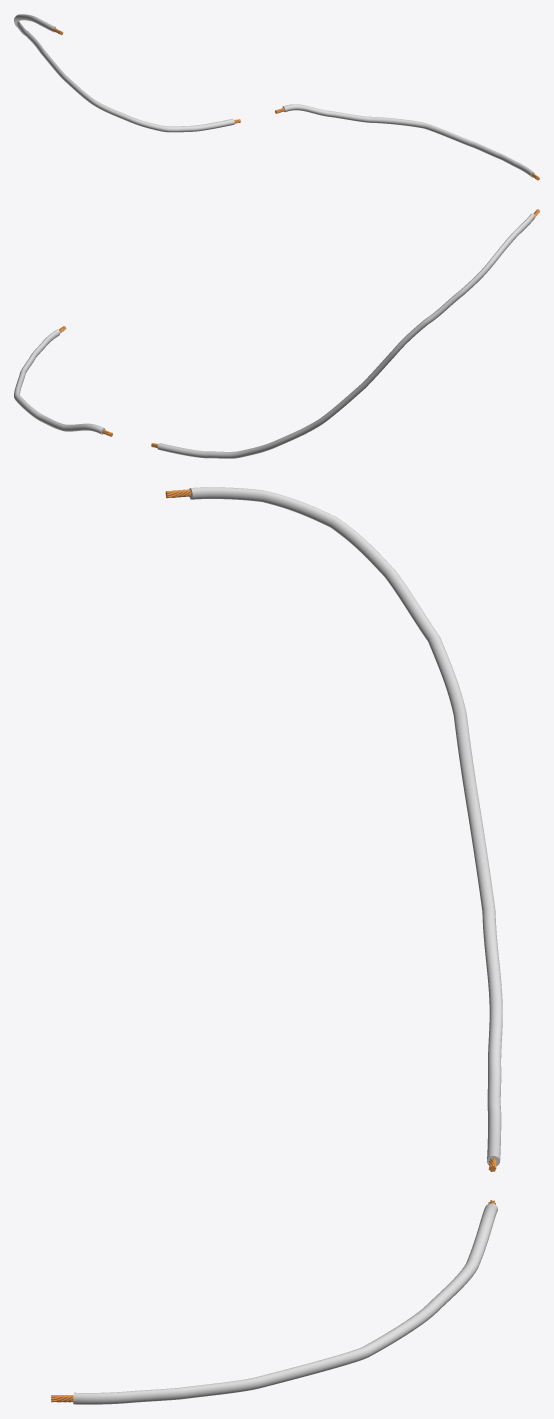
The model's file is wireWithSwitch1.fbx.
The picture shows the model from 3 angles, top to bottom: view 1: azimuth 30°, elevation 25°; view 2: azimuth 150°, elevation 25°; view 3: azimuth 270°, elevation 25°; orthographic projection. The views are drawn at different scales.
Parts seen in each view (by area): view 1: WireWithSwitch; view 2: WireWithSwitch; view 3: WireWithSwitch.
Boxes of the visible parts, left/top/right/bottom form: WireWithSwitch: left=14, top=14, right=534, bottom=177; WireWithSwitch: left=14, top=213, right=534, bottom=458; WireWithSwitch: left=73, top=487, right=502, bottom=1404.
Bounding box in the file's own units: 2267 × 1136 × 974.
